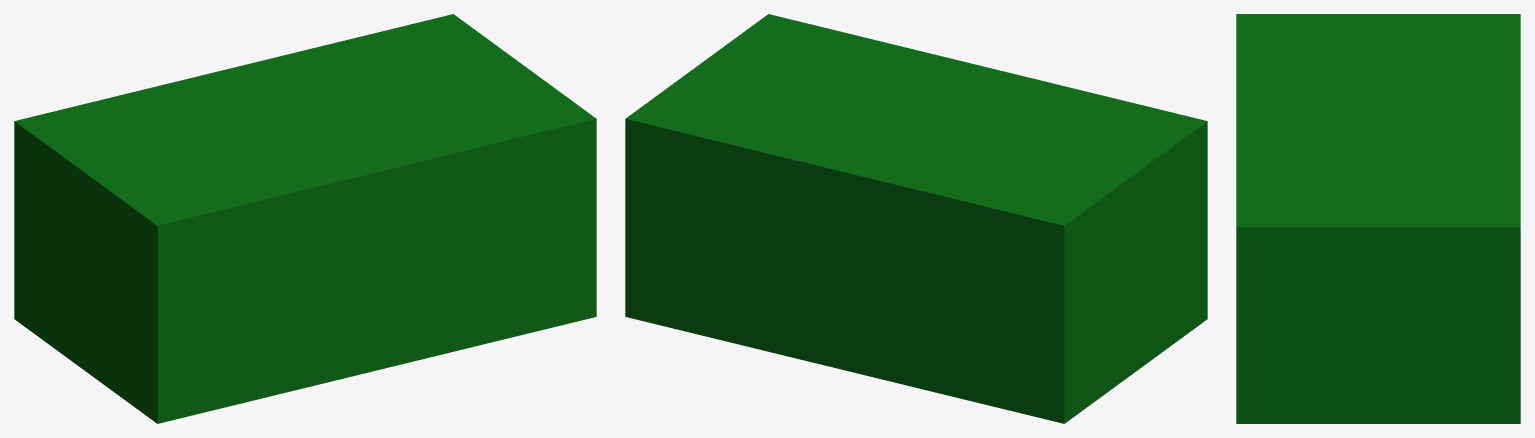
Rendered from tank_body.glb.
3 renders of one model, left to right at view 1: azimuth 30°, elevation 25°; view 2: azimuth 150°, elevation 25°; view 3: azimuth 270°, elevation 25°, orthographic.
Parts seen in each view (by area): view 1: Body; view 2: Body; view 3: Body.
Part boxes in pixels (x1=…): Body: x1=14, y1=14, x2=596, y2=423; Body: x1=625, y1=14, x2=1207, y2=423; Body: x1=1236, y1=14, x2=1520, y2=423.
Size of the model in its own units: 4.64 by 2 by 2.62.
1 material, 1 textured.
